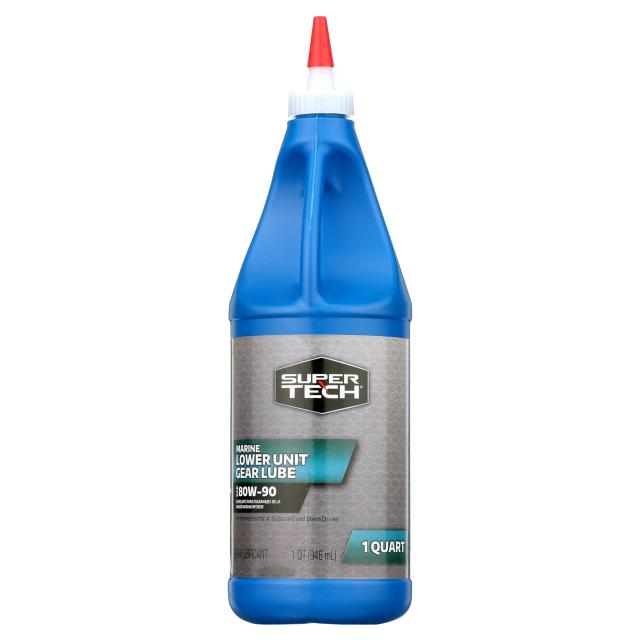-oil-: (217, 8, 418, 622)
